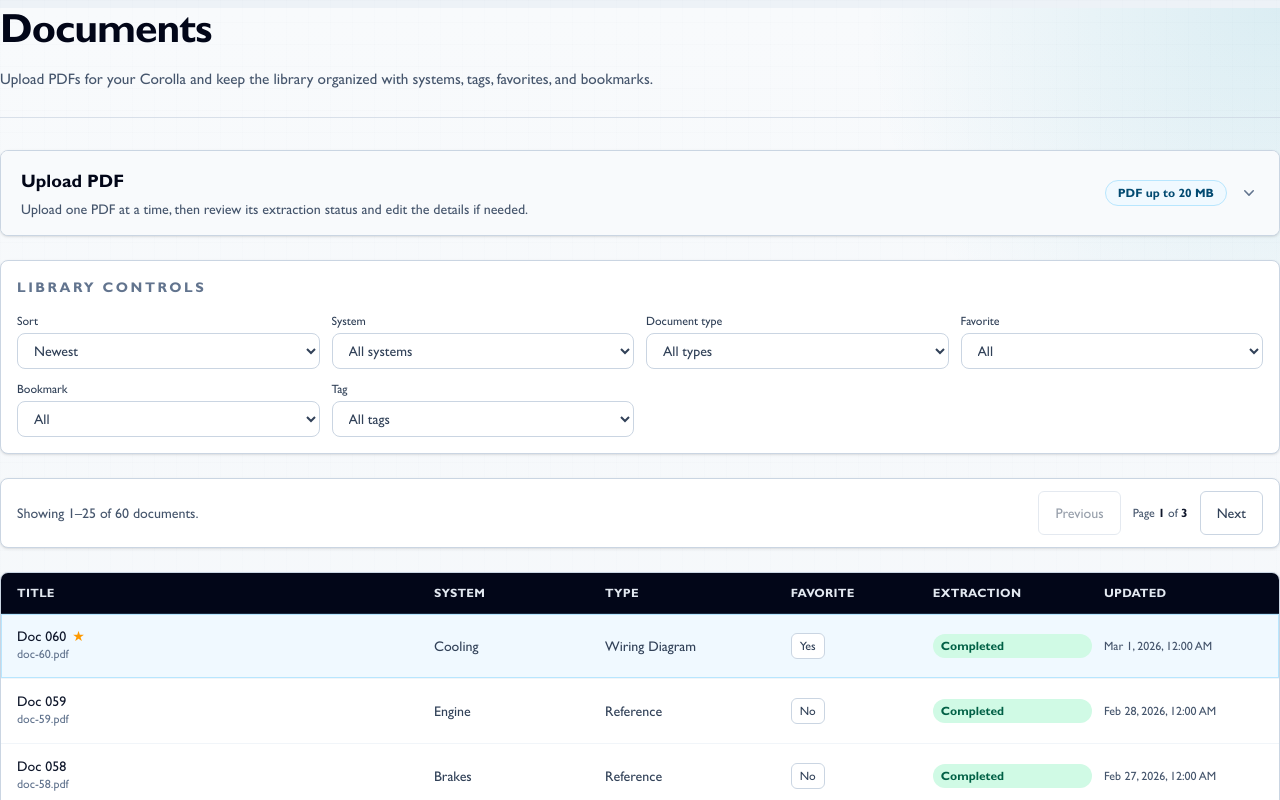
it: a filter searches the whole library, and its options come from the whole library
Expected: the heading "Library controls" is shown, [17,277,206,297]
Step 1. Select "Cooling" in the dropdown labelled "System" → (483, 351), box [332,333,634,369]
(page scrolled)
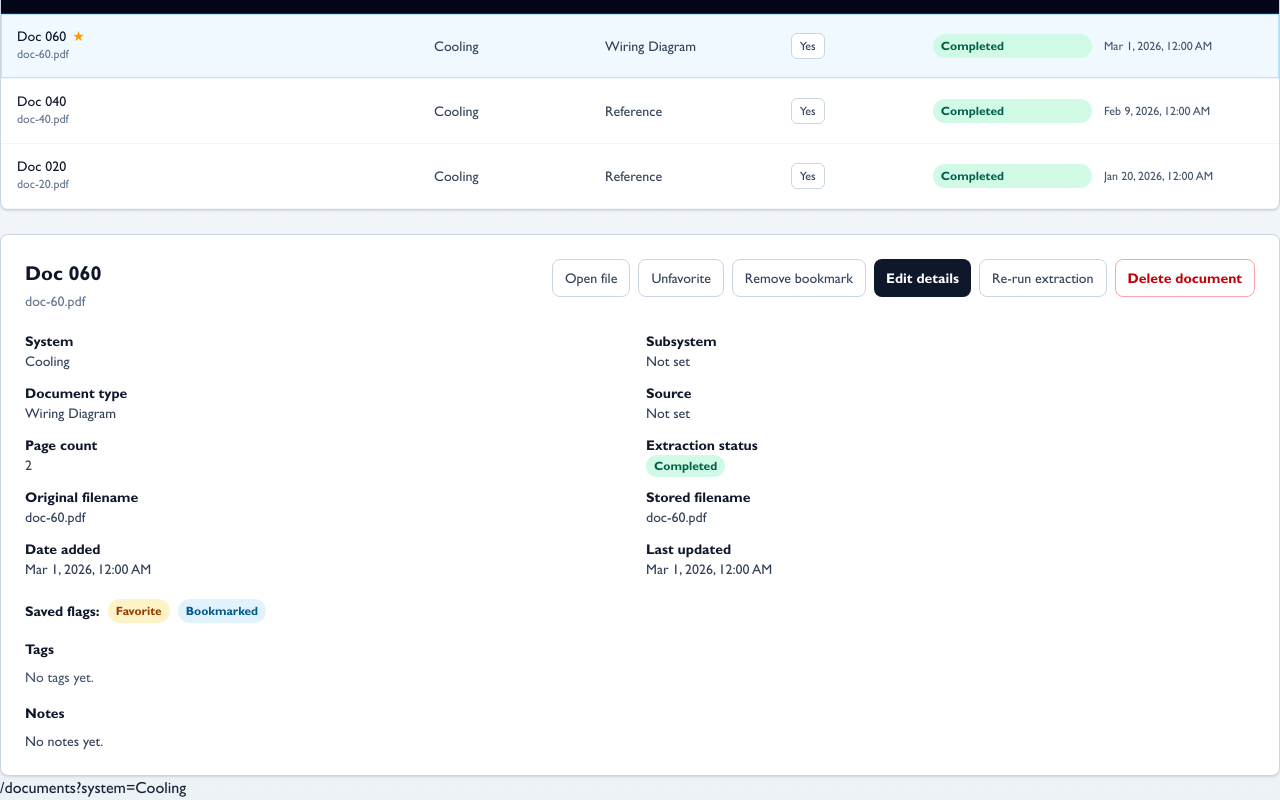
Expected: the text with test id "url" reads "/documents?system=Cooling", [0,778,186,797]
